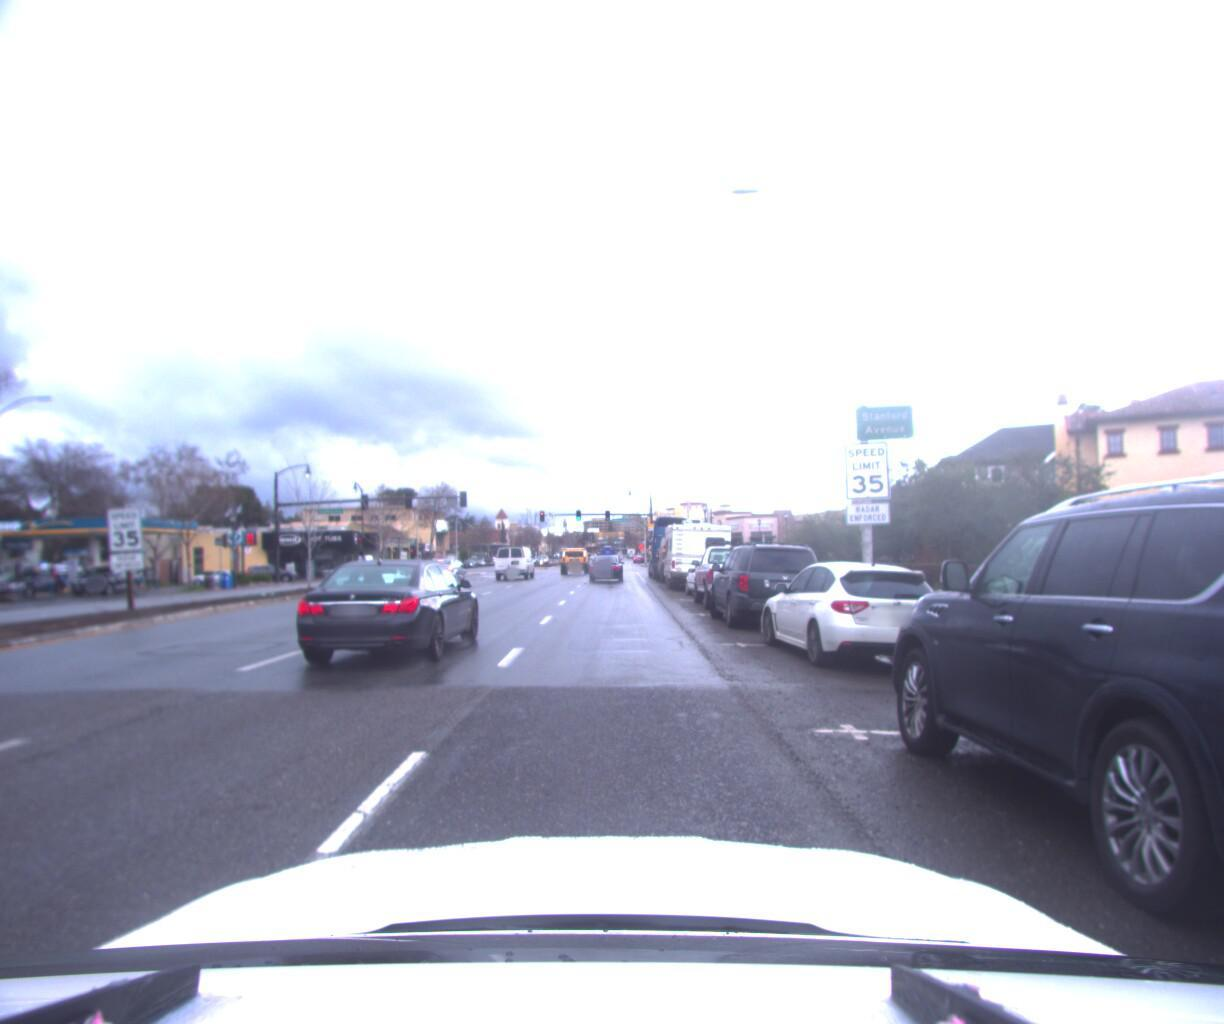car: (863, 358, 1224, 1024), (748, 549, 966, 681), (286, 551, 488, 679), (708, 533, 831, 634), (691, 531, 787, 614), (318, 552, 434, 620), (680, 551, 752, 596), (652, 525, 706, 580), (68, 564, 148, 599), (0, 570, 72, 608), (491, 540, 537, 579), (421, 554, 468, 587), (245, 560, 301, 582), (191, 566, 246, 586), (586, 551, 621, 581), (559, 543, 592, 574)
other_vehicle: (659, 511, 732, 592)
truck: (645, 509, 700, 578)
